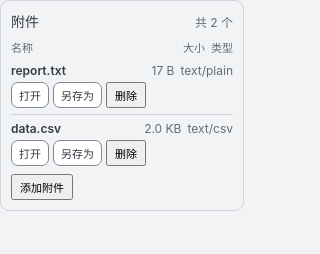
AttachmentPanel › shows a Chinese message when the save target is the source document
Step 1. Click the button with aria-label "另存为 report.txt" → {"x": 78, "y": 95}, box [53, 82, 102, 108]
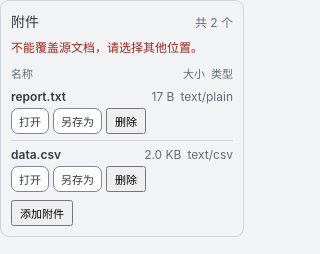
Expected: the message reads "不能覆盖源文档，请选择其他位置。", [11, 40, 203, 55]
